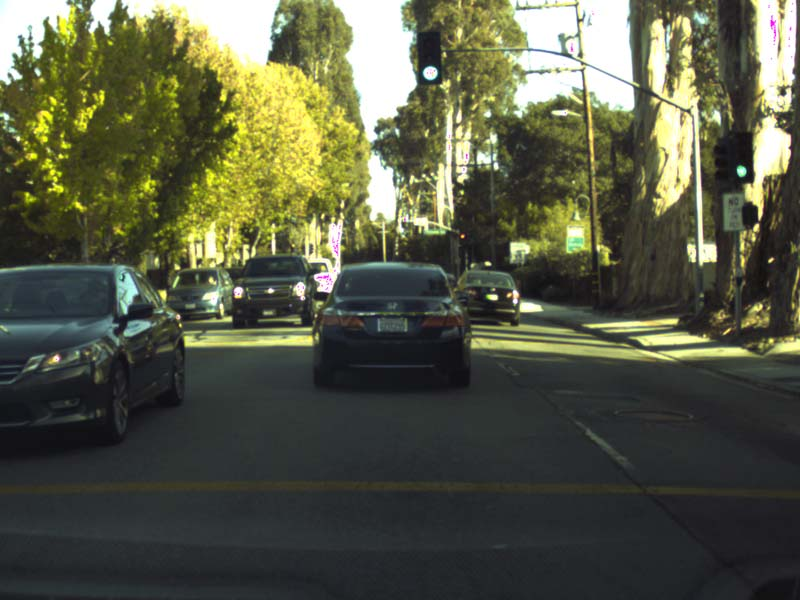Green: (417, 30, 441, 82), (731, 130, 753, 180)
Red: (459, 233, 466, 244)
